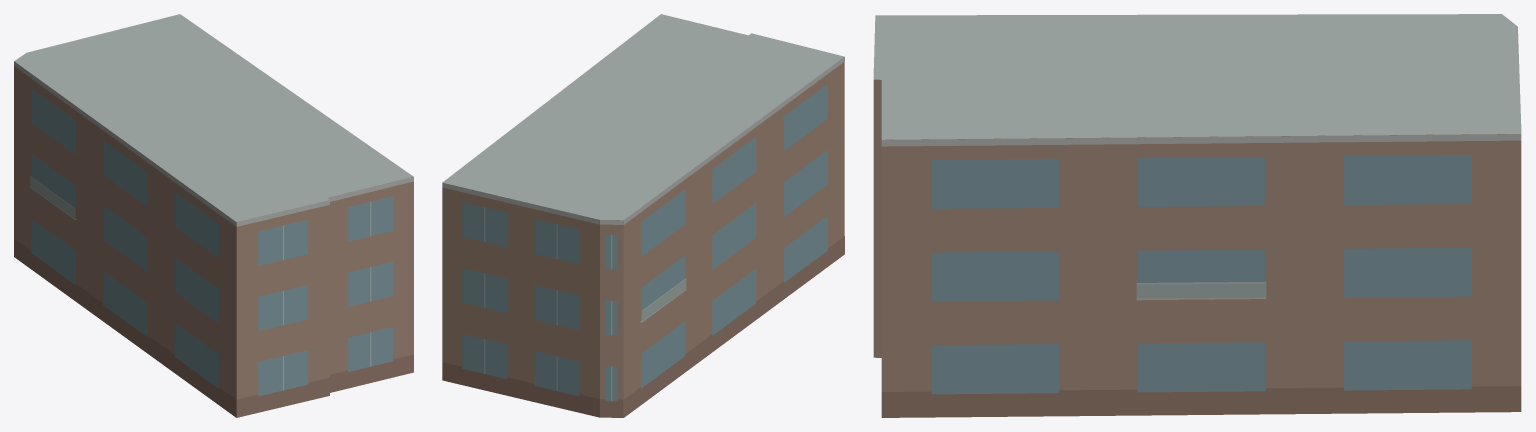
The model's file is survey-upis-32741049.glb.
3 renders of one model, left to right at view 1: azimuth 30°, elevation 25°; view 2: azimuth 150°, elevation 25°; view 3: azimuth 270°, elevation 25°, orthographic. The views are drawn at different scales.
Parts seen in each view (by area): view 1: survey-upis-32741049.tmp; view 2: survey-upis-32741049.tmp; view 3: survey-upis-32741049.tmp.
Part boxes in pixels (x1,y1,x2,y2): survey-upis-32741049.tmp: (14, 14, 413, 417); survey-upis-32741049.tmp: (442, 14, 844, 417); survey-upis-32741049.tmp: (873, 14, 1521, 417).
Bounding box in the file's own units: 9.84 × 10.1 × 21.34.
